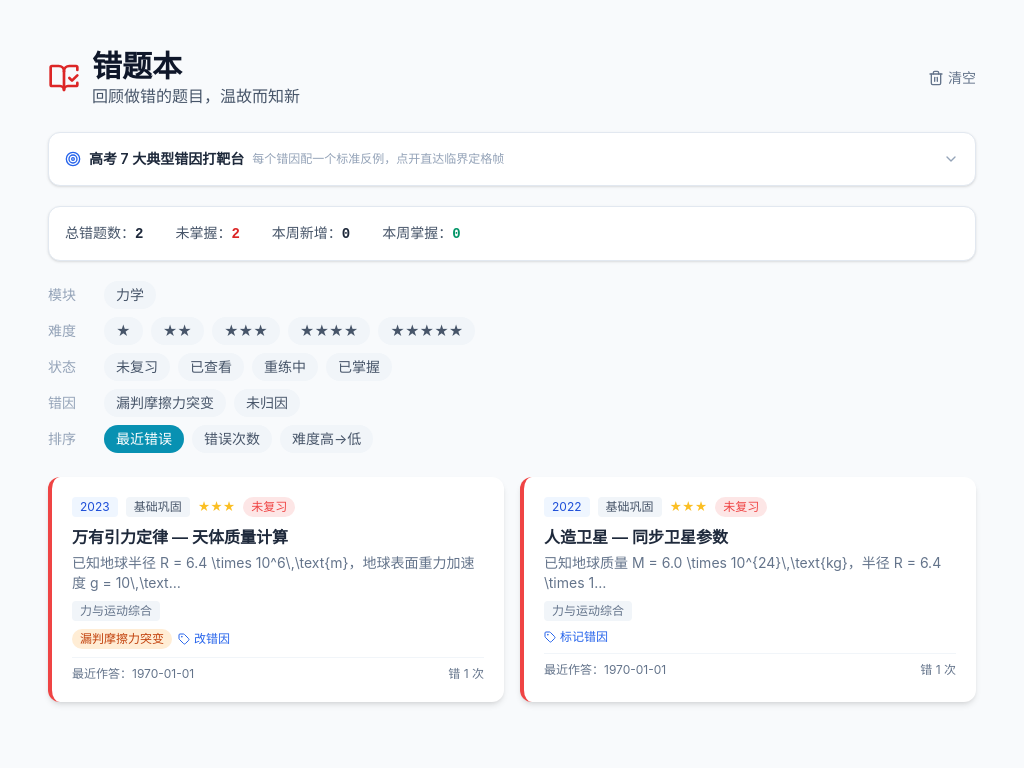
WrongPage · 错因 chip 可见性 › 删掉最后一条带该错因的记录后，chip 仍在且可再次点击取消
Click the button "漏判摩擦力突变". click: [165, 403]
box: [104,389,226,417]
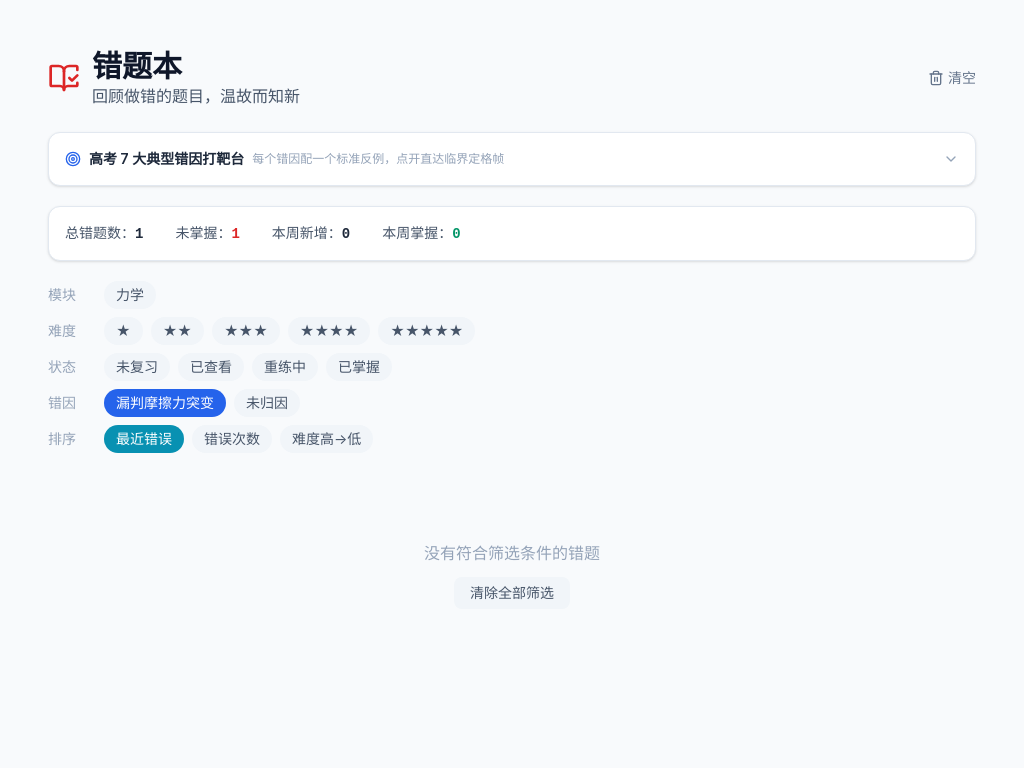
Check: the text "没有符合筛选条件的错题" is shown, box [424,541,600,565]
Check: the button "清除全部筛选" is shown, box [454,577,570,609]
Note: 点掉它 → 恢复全部记录
Click the button "漏判摩擦力突变". click: [165, 403]
box: [104,389,226,417]
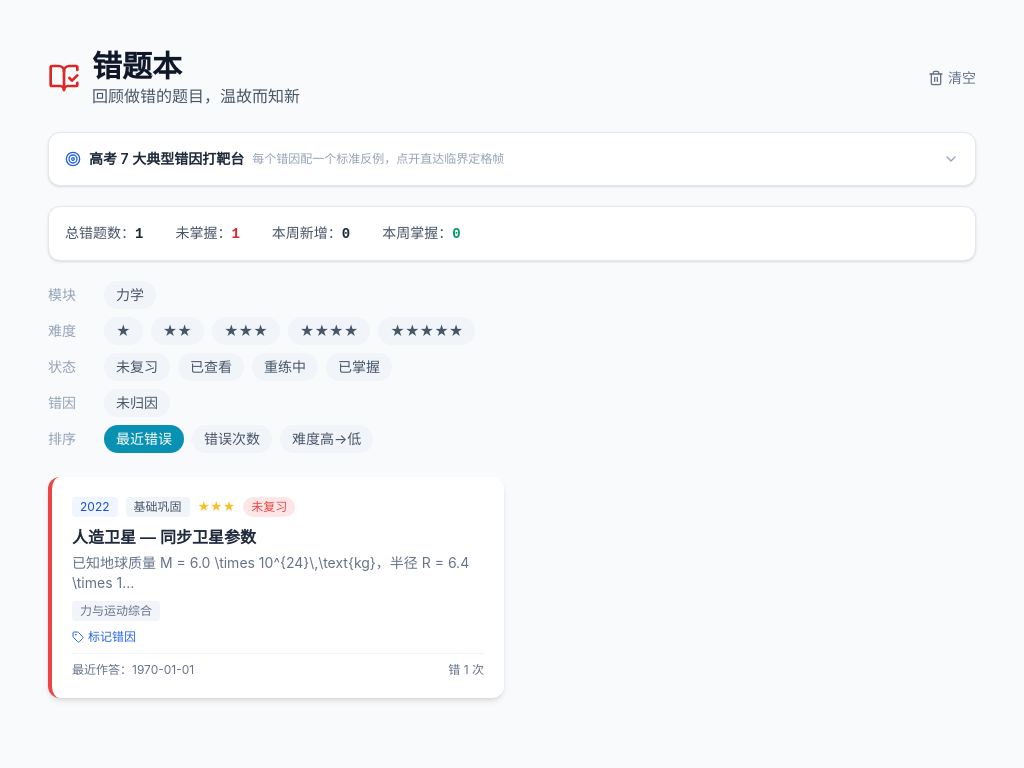
Check: the text "没有符合筛选条件的错题" is gone
